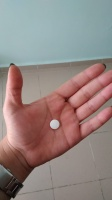Parol: (49, 119, 60, 130)
